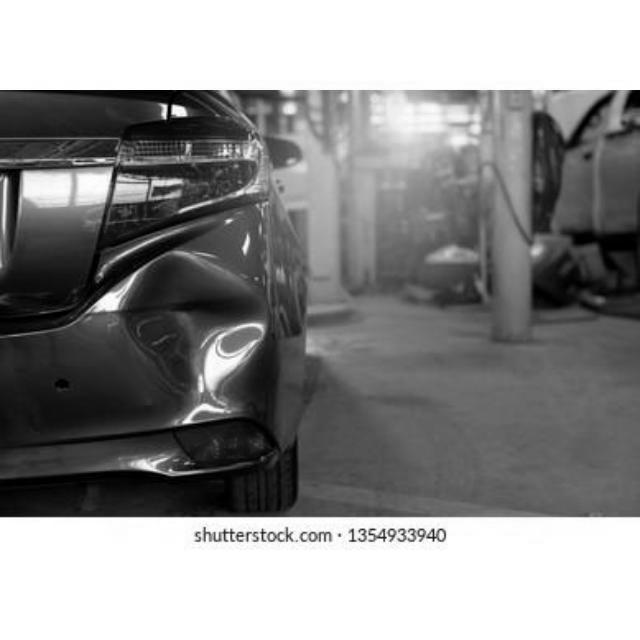rear-bumper-dent: (117, 252, 271, 405)
